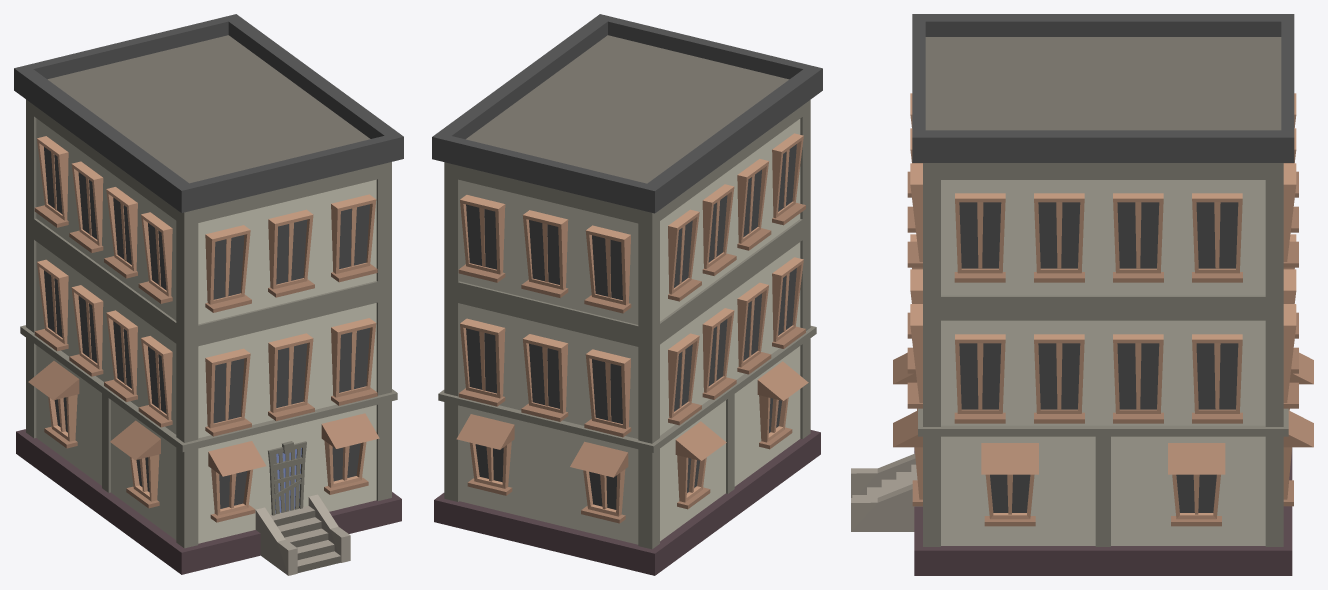
The model's file is building04_color01.fbx.
3 views of the same model, side by side, from view 1: azimuth 30°, elevation 25°; view 2: azimuth 150°, elevation 25°; view 3: azimuth 270°, elevation 25° (orthographic). The views are drawn at different scales.
Parts seen in each view (by area): view 1: building04_color01; view 2: building04_color01; view 3: building04_color01.
Part boxes in pixels (x1=…): building04_color01: x1=14, y1=14, x2=403, y2=575; building04_color01: x1=432, y1=14, x2=822, y2=575; building04_color01: x1=851, y1=14, x2=1313, y2=575.
Bounding box in the file's own units: 1065 × 1537 × 1469.
